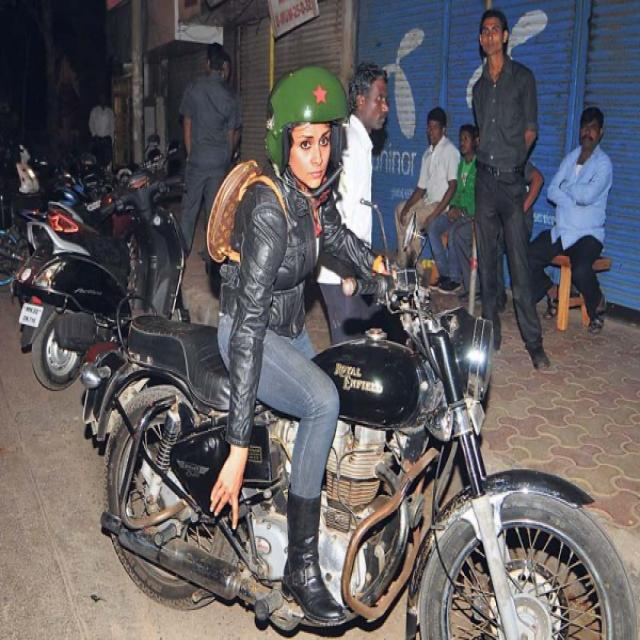helmet: (254, 57, 358, 211)
motorcycle: (92, 46, 640, 640)
